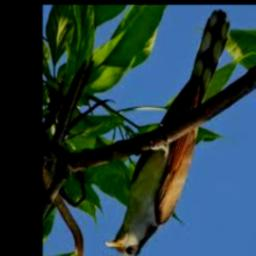Cuckoo: (104, 9, 231, 256)
